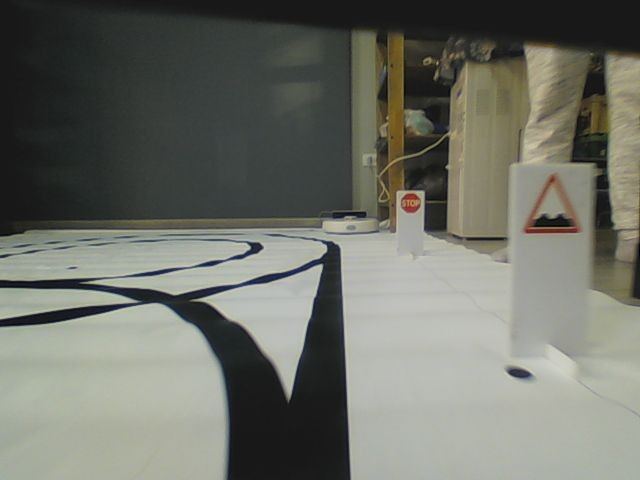Nerov: (523, 172, 583, 236)
Stop: (399, 194, 422, 214)
